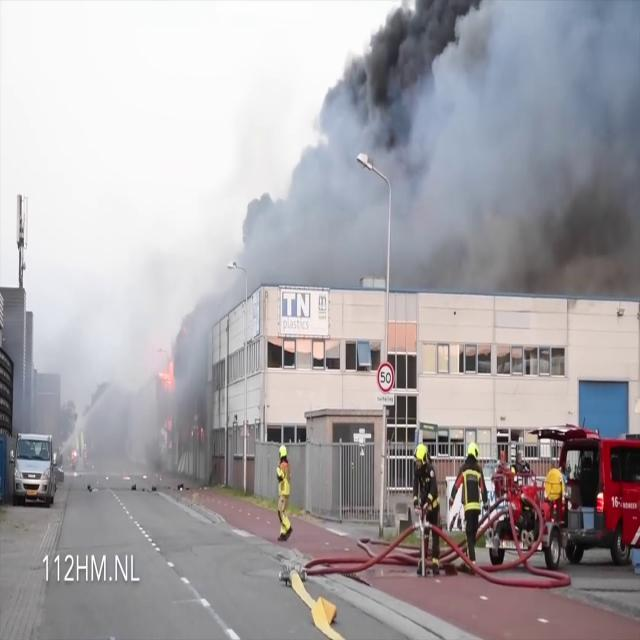Smoke: (225, 0, 640, 298), (68, 292, 224, 495)
